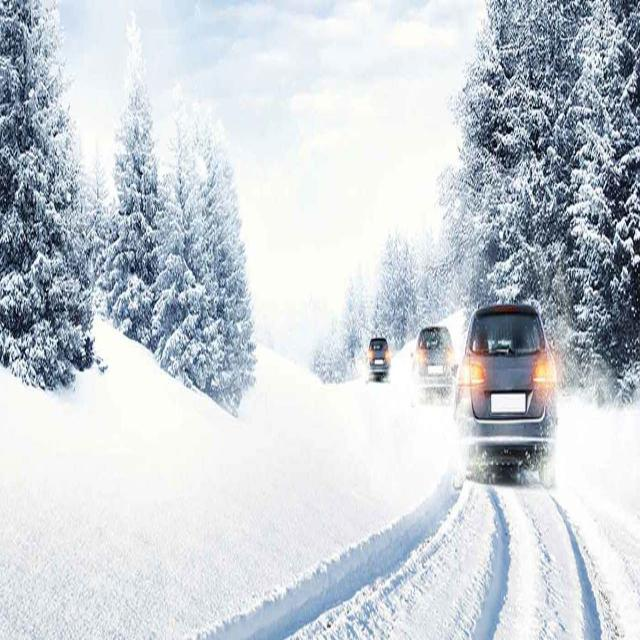car: (457, 304, 555, 483), (412, 324, 460, 402), (368, 337, 390, 381)
